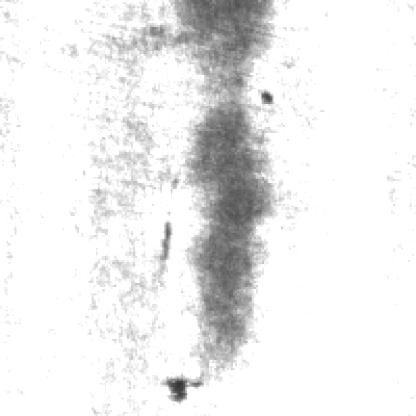patches: (178, 111, 266, 387), (168, 2, 272, 98)
